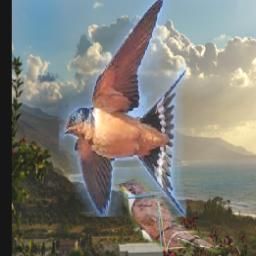Cuckoo: (115, 174, 224, 256)
Swallow: (59, 0, 186, 218)
